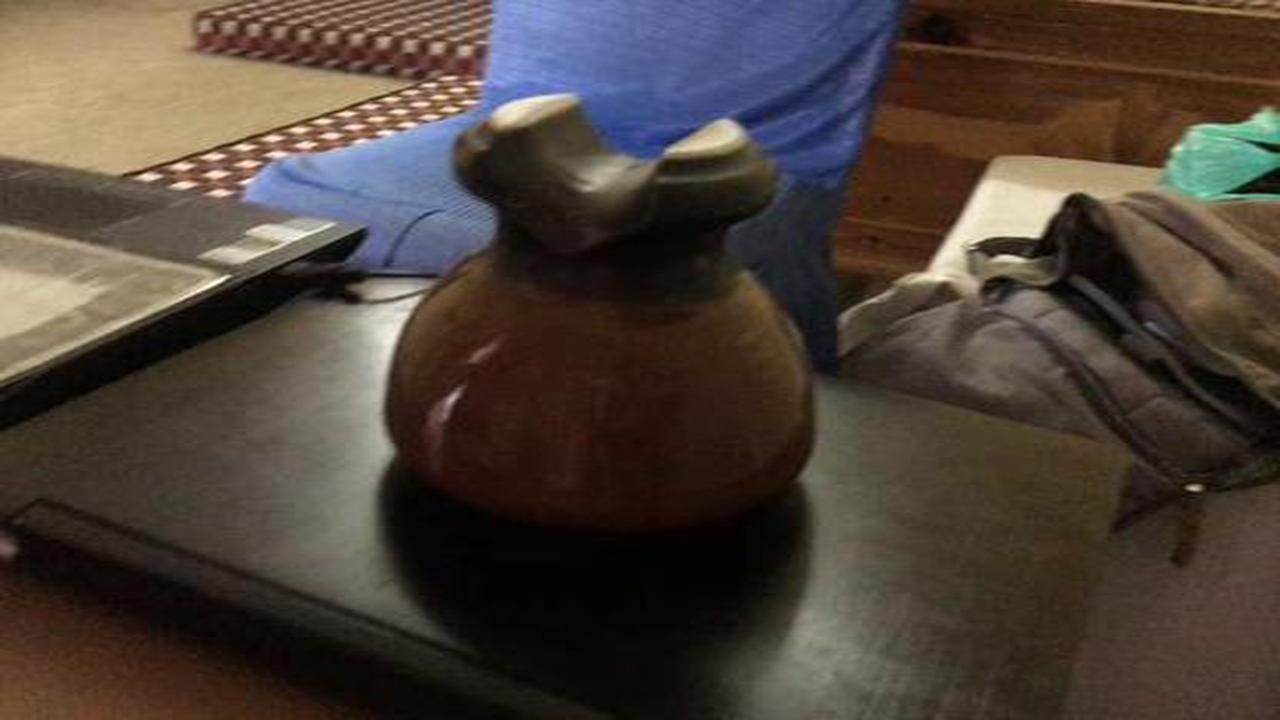insulator_pin: (364, 76, 850, 541)
